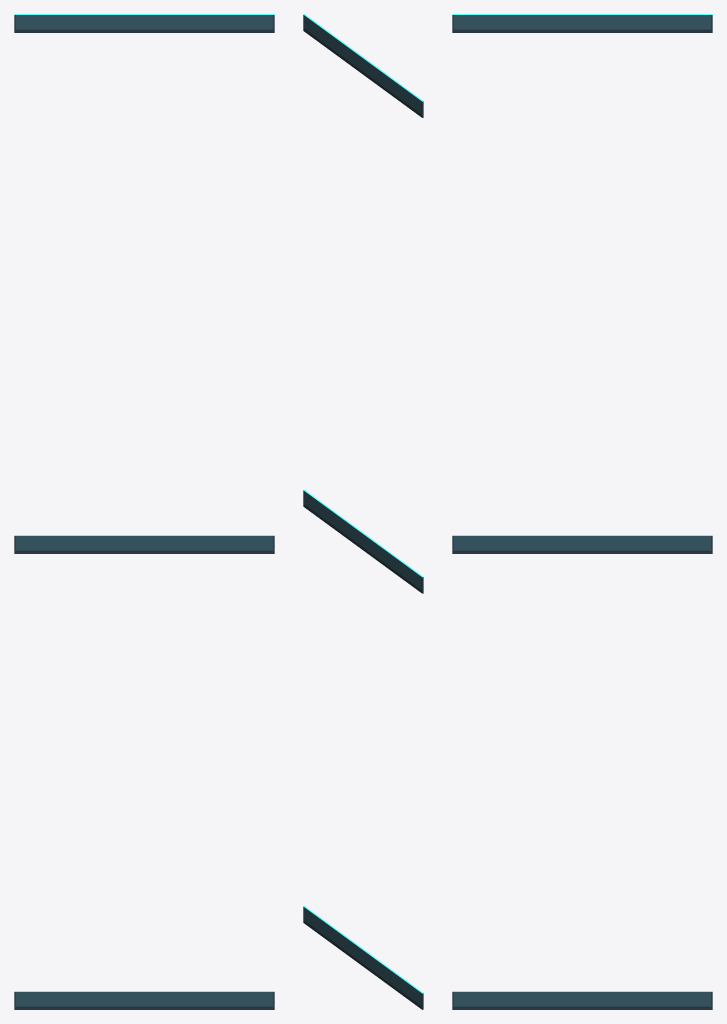
File: east-loggia-right-guards.glb
3 renders of one model, left to right at view 1: azimuth 90°, elevation 25°; view 2: azimuth 210°, elevation 25°; view 3: azimuth 270°, elevation 25°, orthographic. The views are drawn at different scales.
Parts seen in each view (by area): view 1: east-loggia-right-guards; view 2: east-loggia-right-guards; view 3: east-loggia-right-guards.
Part boxes in pixels (<box>): east-loggia-right-guards: <box>14,14,274,1009</box>; east-loggia-right-guards: <box>303,14,423,1009</box>; east-loggia-right-guards: <box>452,14,712,1009</box>.
Bounding box in the file's own units: 0.08 × 61.13 × 14.5.
